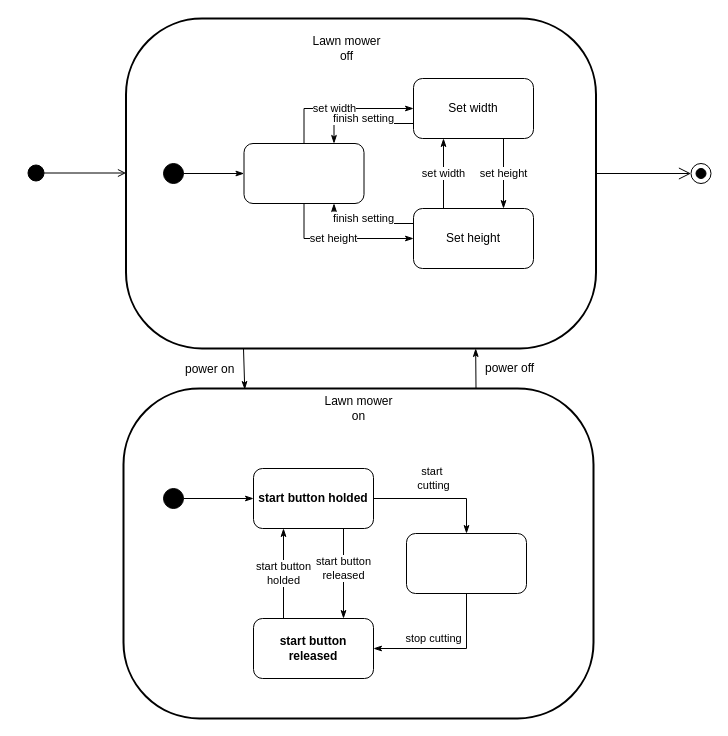
The diagram is 728 pixels wide and 736 high, and some of its shapes have lost their labels. The shapes that lost their labels are listed below. From the top down, each one's centre as x and y in pixels, then its label:
(303,173): setting up
(466,563): cutting
